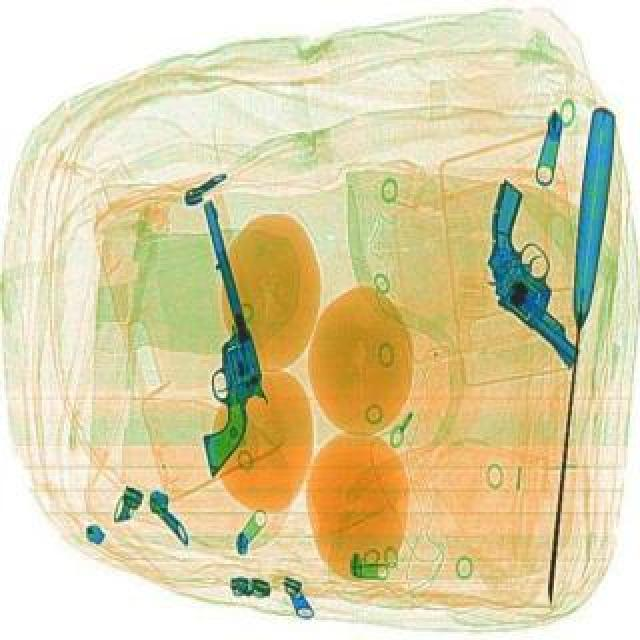gun: (140, 198, 284, 476), (430, 176, 638, 362)
knife: (534, 106, 618, 606)
